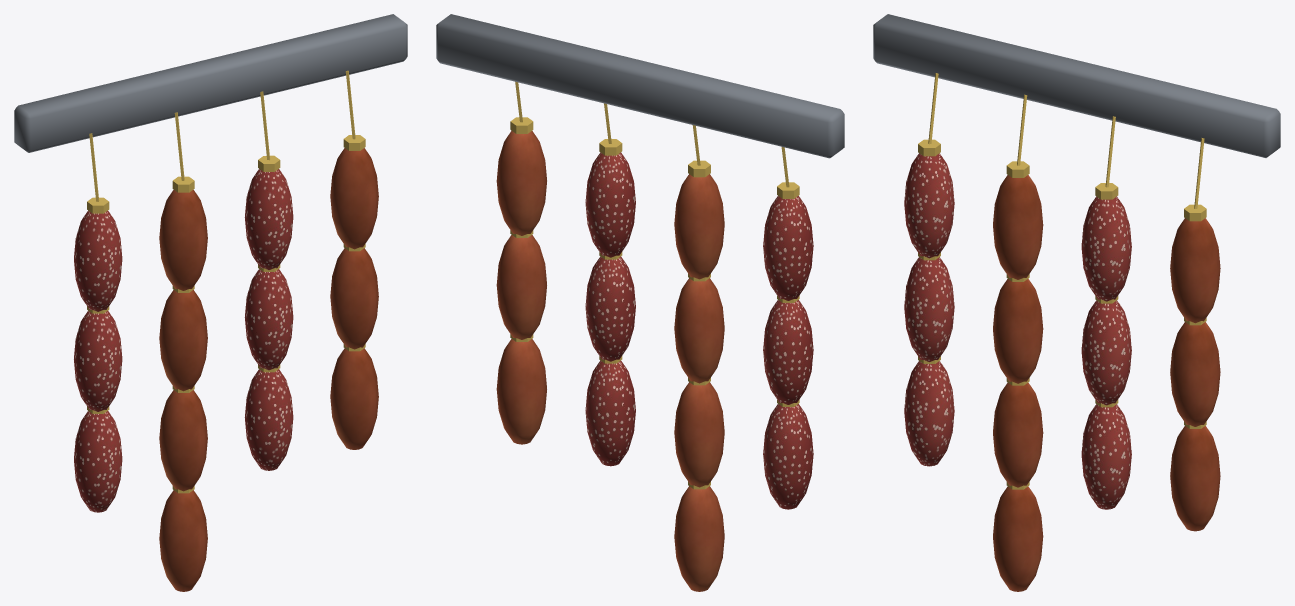
Rendered from hanging_sausage_links_hanging.glb.
3 renders of one model, left to right at view 1: azimuth 30°, elevation 25°; view 2: azimuth 150°, elevation 25°; view 3: azimuth 330°, elevation 25°, orthographic. The views are drawn at different scales.
Visible parts, largest first — view 1: hanging_sausage_links_hanging; view 2: hanging_sausage_links_hanging; view 3: hanging_sausage_links_hanging.
Part boxes in pixels (x1,y1,x2,y2): hanging_sausage_links_hanging: (14, 14, 407, 591); hanging_sausage_links_hanging: (436, 14, 844, 591); hanging_sausage_links_hanging: (873, 14, 1280, 591).
Size of the model in its own units: 0.3 by 0.38 by 0.0465.
Materials: 4 (2 with a texture image).
